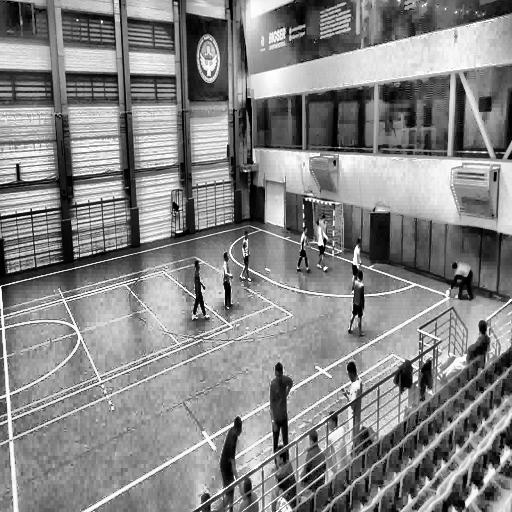ball: (446, 288, 452, 301)
player: (269, 360, 291, 466), (348, 268, 365, 336), (192, 259, 210, 321), (450, 260, 472, 300), (315, 214, 329, 272), (351, 236, 364, 295), (297, 223, 311, 273), (222, 252, 233, 311), (240, 232, 252, 284), (321, 213, 329, 252)
